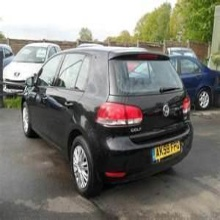no damage: (22, 45, 193, 194)
